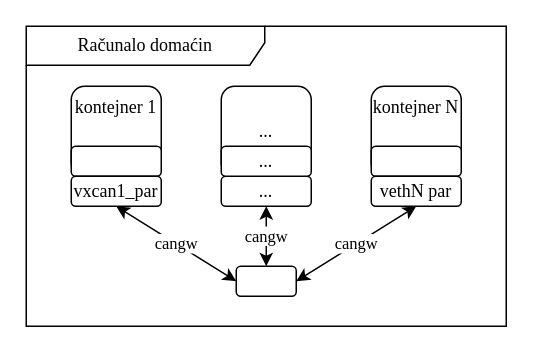
The diagram is 533 pixels wide and 353 high, and some of its shapes have lost their labels. Here are the shapes that lost their labels. From the top down, the centre of each, then its label:
pixel 115 160: vxcan1
pixel 415 160: vethN
pixel 265 280: vcan0
